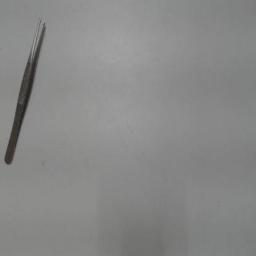Gillies Toothed Dissector: (2, 10, 52, 170)
